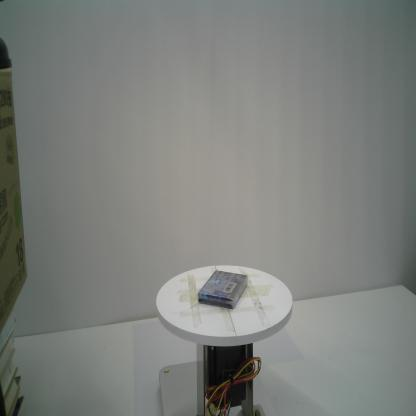Gum: (198, 270, 248, 310)
